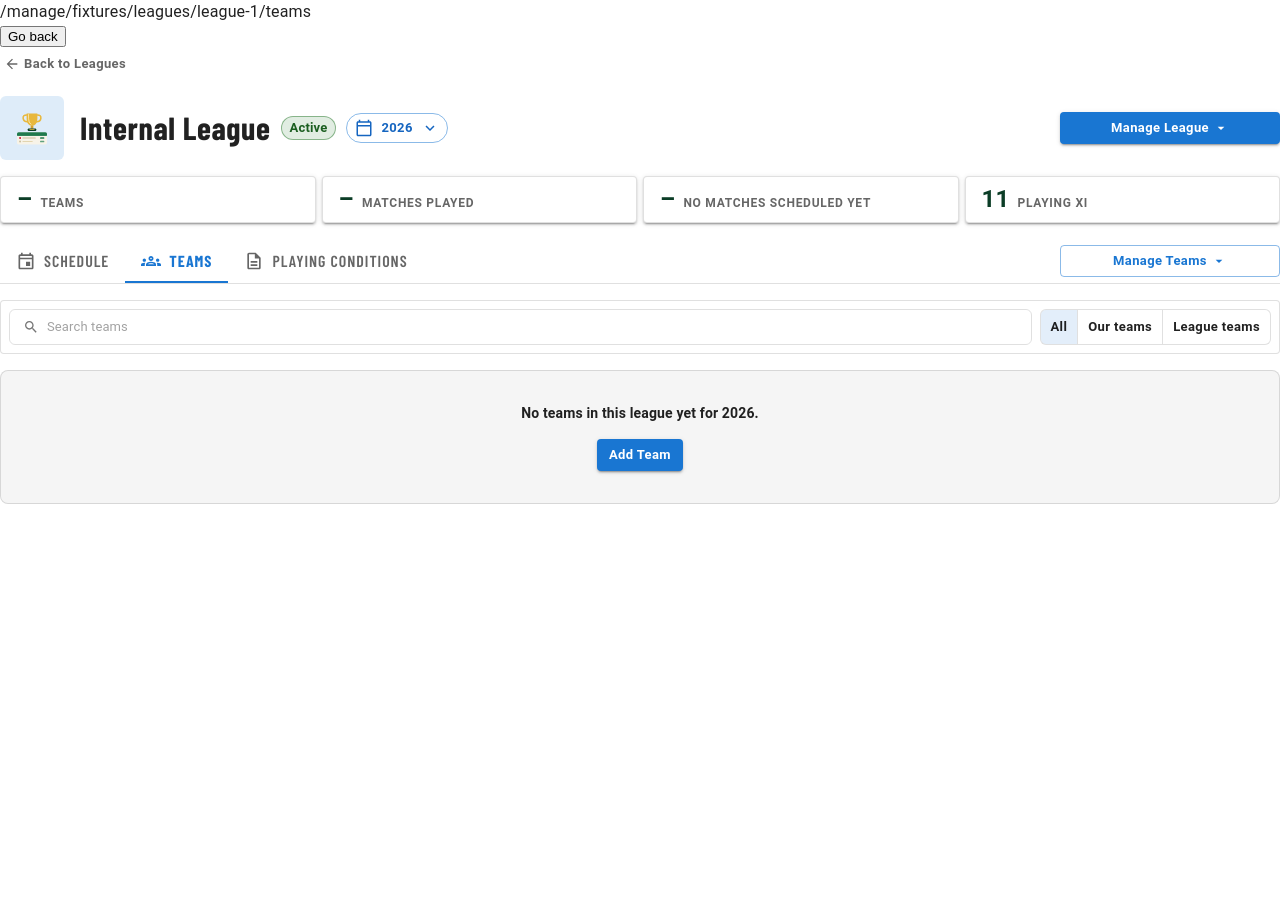
Scenario: LeagueTeamsView › shows a centred empty state with a filled Add Team button when the season has neither own nor league teams
Expected: the text "No teams in this league yet for 2026." is shown, [521,403,759,423]
Expected: the button "Manage Teams" is shown, [1060,245,1279,277]
Click the button "Add Team" at coordinates (640, 455), box [597,439,683,471]
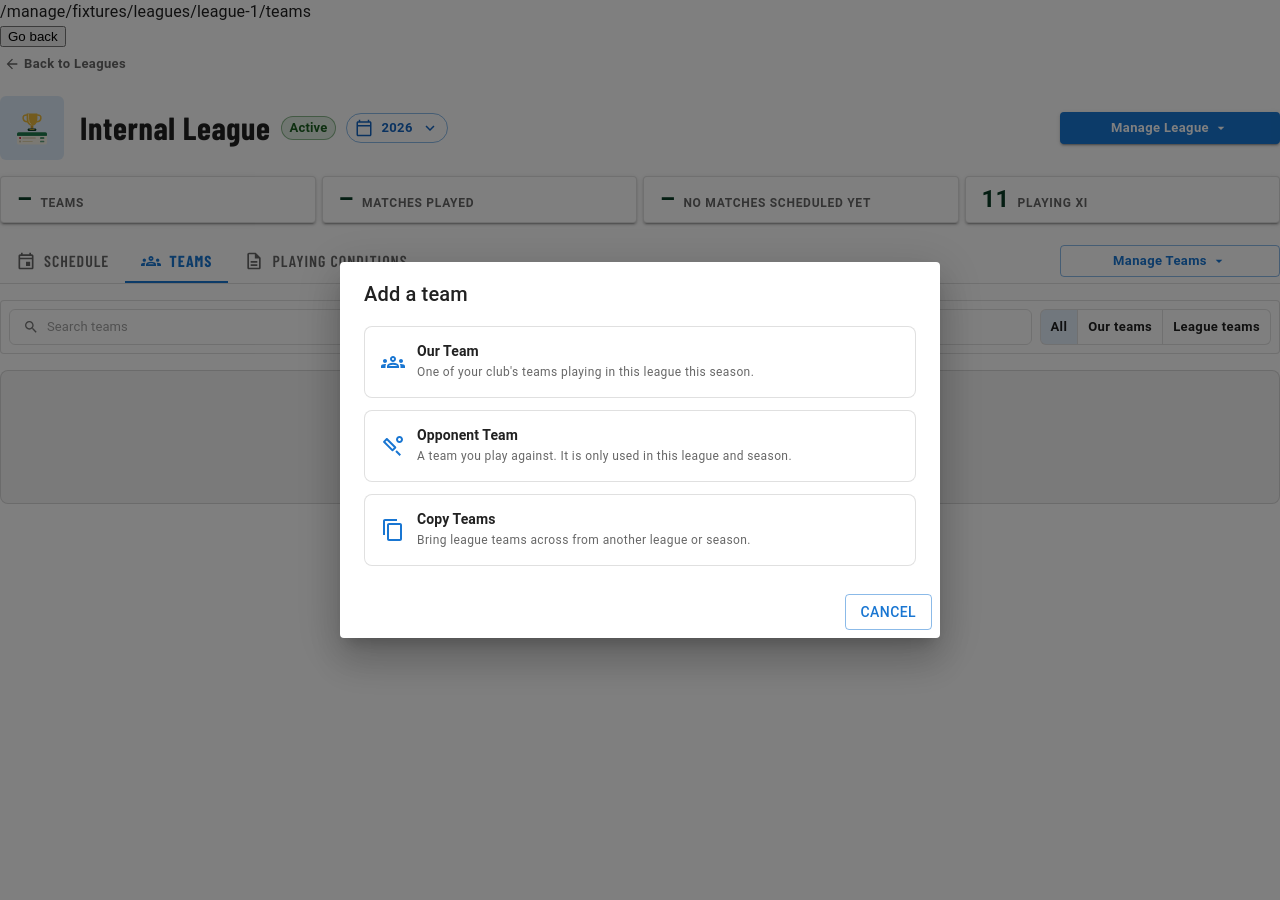
Expected: the dialog "Add a team" is shown, [340,262,940,638]
